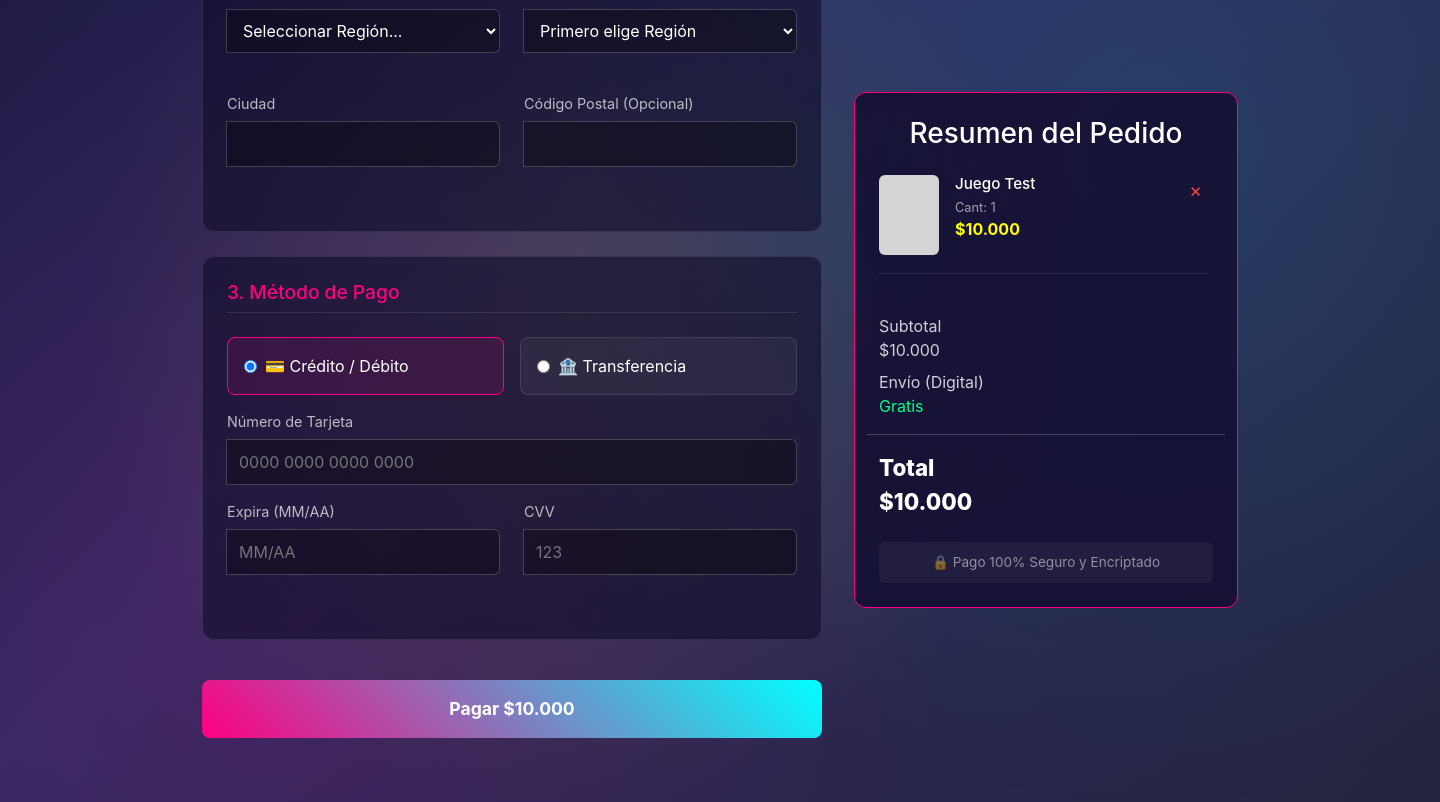
Pruebas del Componente VerificarCompra › Debe procesar la orden EXITOSAMENTE
(page scrolled)
Ahora sí clickeamos
Click the button "Pagar $10.000" at (512,709), box [202,680,822,738]
(page scrolled)
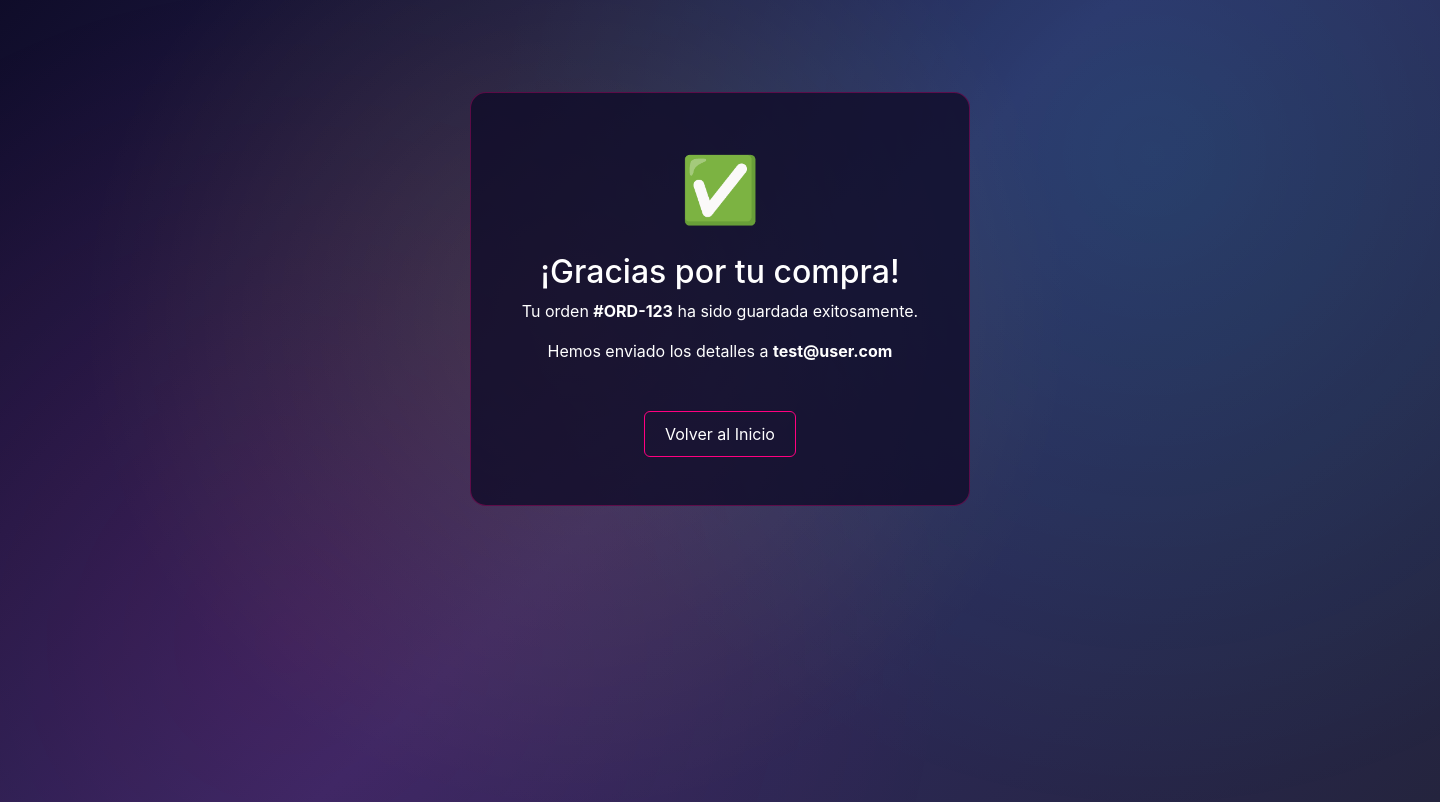
Result: the heading "¡Gracias por tu compra!" is shown at [519,253,921,291]
